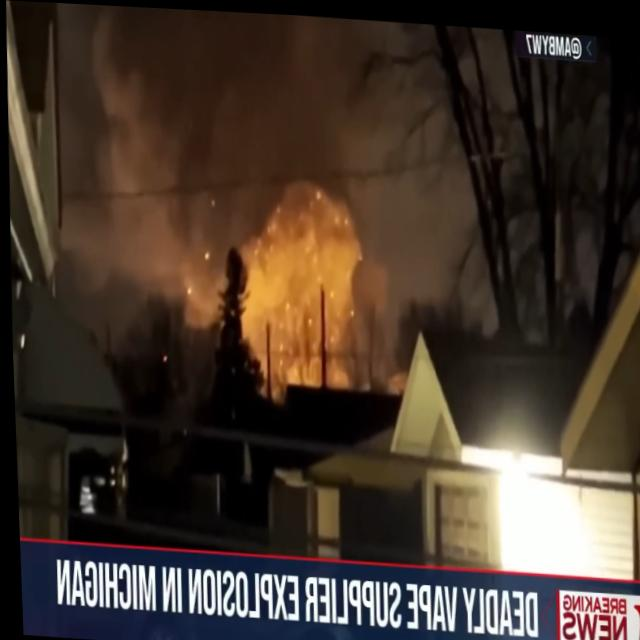Fire: (187, 173, 379, 413)
